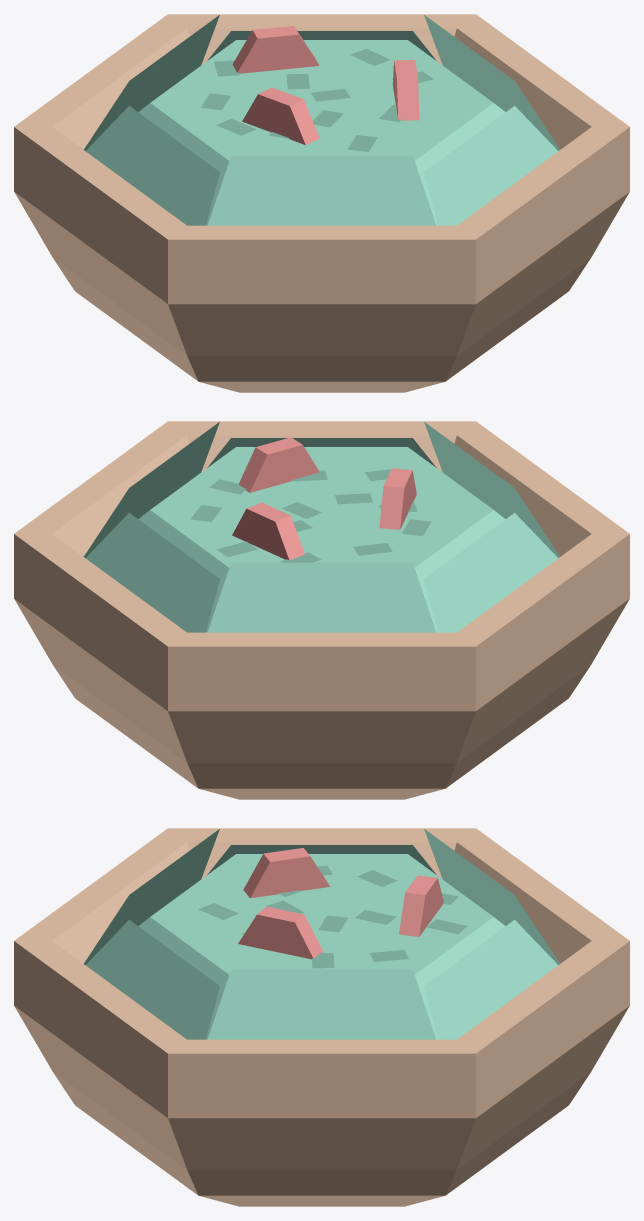
File: riceBoiled.dae
3 renders of one model, top to bottom at view 1: azimuth 30°, elevation 25°; view 2: azimuth 150°, elevation 25°; view 3: azimuth 270°, elevation 25°, orthographic.
Parts seen in each view (by area): view 1: salad.001, salad; view 2: salad.001, salad; view 3: salad.001, salad.
Boxes of the visible parts, x1=… form: salad.001: x1=14, y1=14, x2=629, y2=392; salad: x1=213, y1=48, x2=433, y2=138; salad.001: x1=14, y1=421, x2=629, y2=799; salad: x1=191, y1=470, x2=431, y2=562; salad.001: x1=14, y1=828, x2=629, y2=1206; salad: x1=242, y1=865, x2=467, y2=968.
Bounding box in the file's own units: 0.5022 × 0.5798 × 0.2734.
